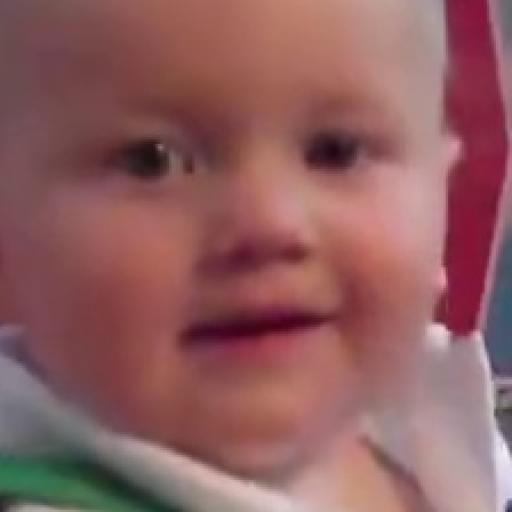Autism: (17, 4, 512, 510)
